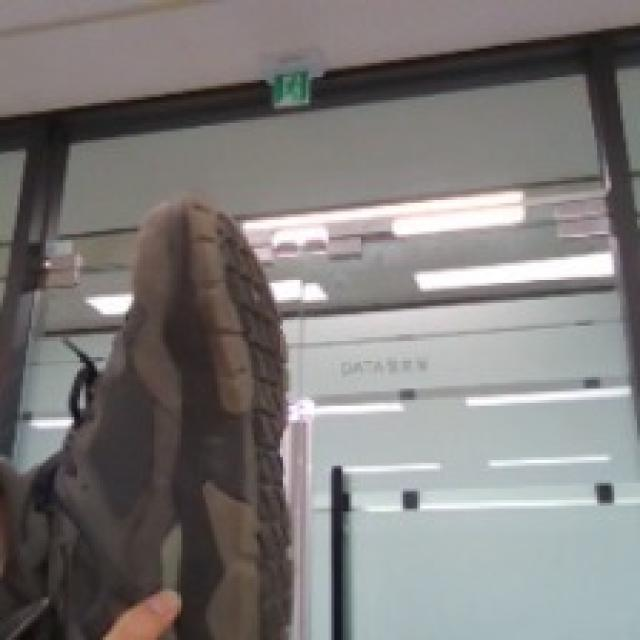shoe: (14, 182, 396, 640)
